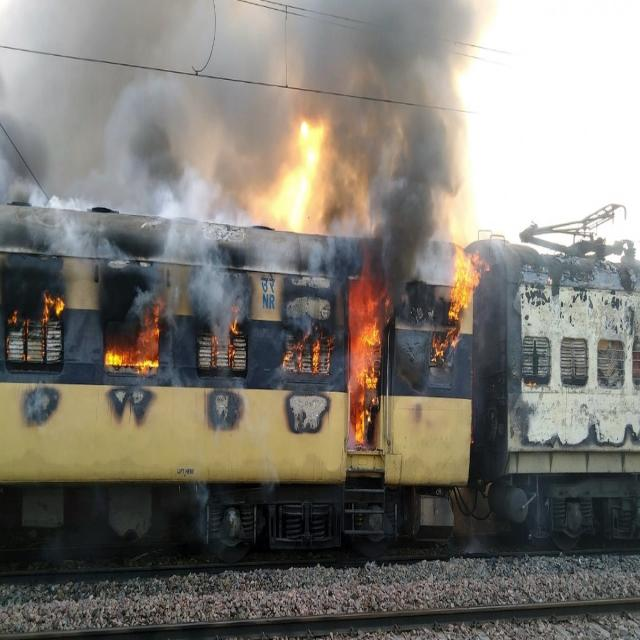fire: (348, 280, 382, 450), (453, 247, 485, 323), (104, 342, 163, 372), (430, 329, 461, 361)
smoke: (2, 6, 230, 214), (336, 7, 446, 246), (170, 224, 241, 330)
